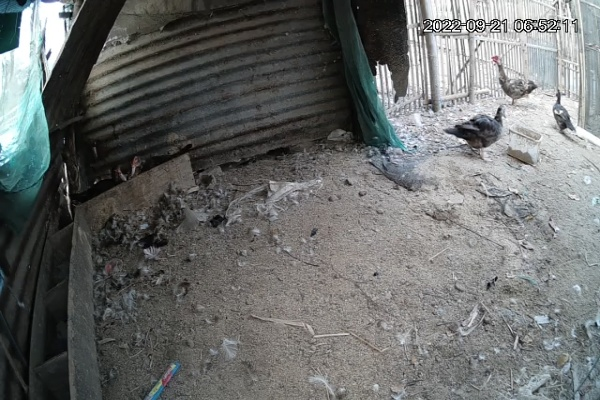Entog: (443, 103, 511, 166), (490, 50, 541, 102), (552, 84, 576, 138)
